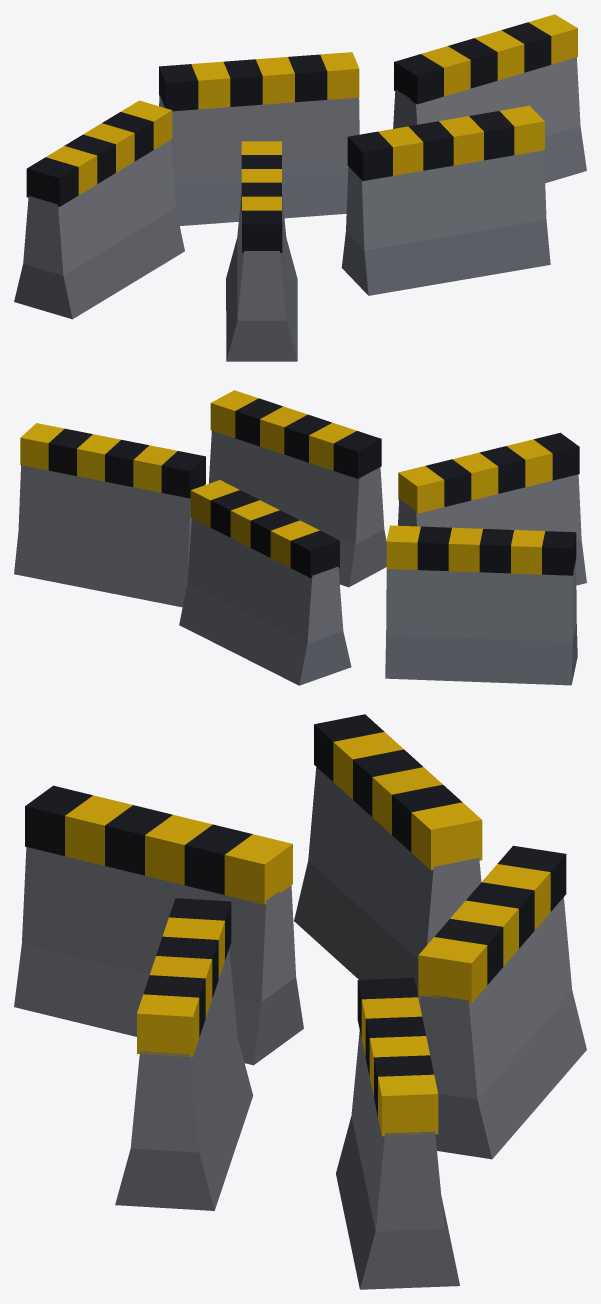
File: Decor_MechaHangar_Barriers.fbx
The picture shows the model from 3 angles, top to bottom: view 1: azimuth 30°, elevation 25°; view 2: azimuth 150°, elevation 25°; view 3: azimuth 270°, elevation 25°; orthographic projection. The views are drawn at different scales.
Visible parts, largest first — view 1: Barriers_Body; view 2: Barriers_Body; view 3: Barriers_Body.
Part boxes in pixels (left/top/right/bottom): Barriers_Body: left=14, top=14, right=586, bottom=361; Barriers_Body: left=14, top=390, right=586, bottom=685; Barriers_Body: left=14, top=714, right=586, bottom=1289.
Size of the model in its own units: 14.62 by 3.4 by 9.16.
